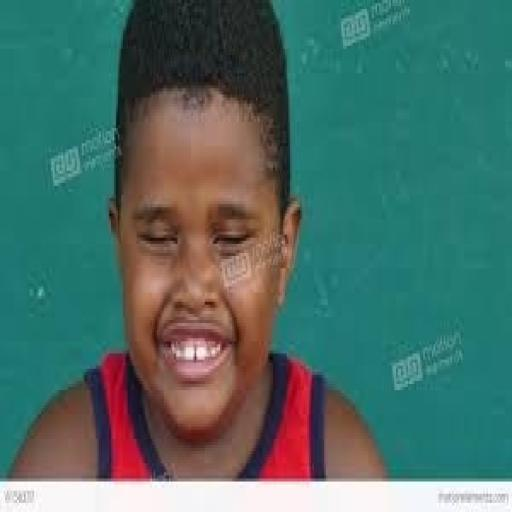laughing: (7, 3, 392, 479)
